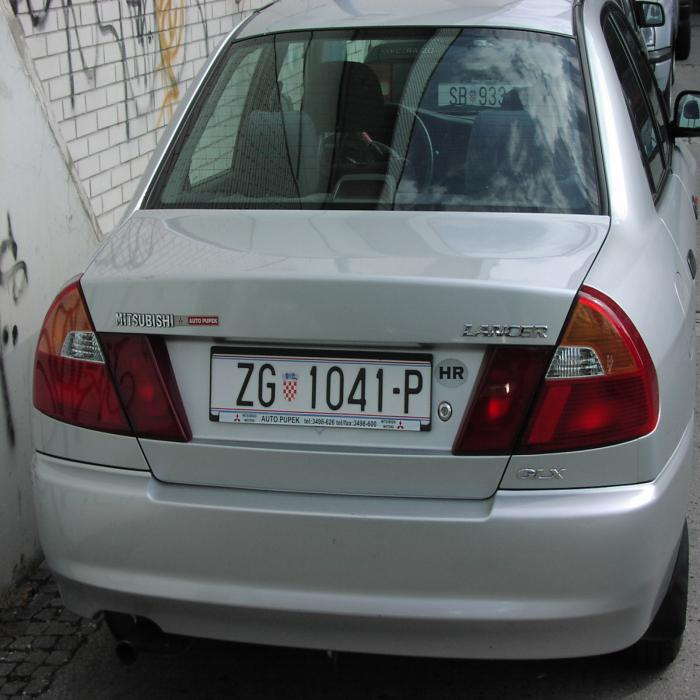number_plate: (211, 358, 430, 416)
